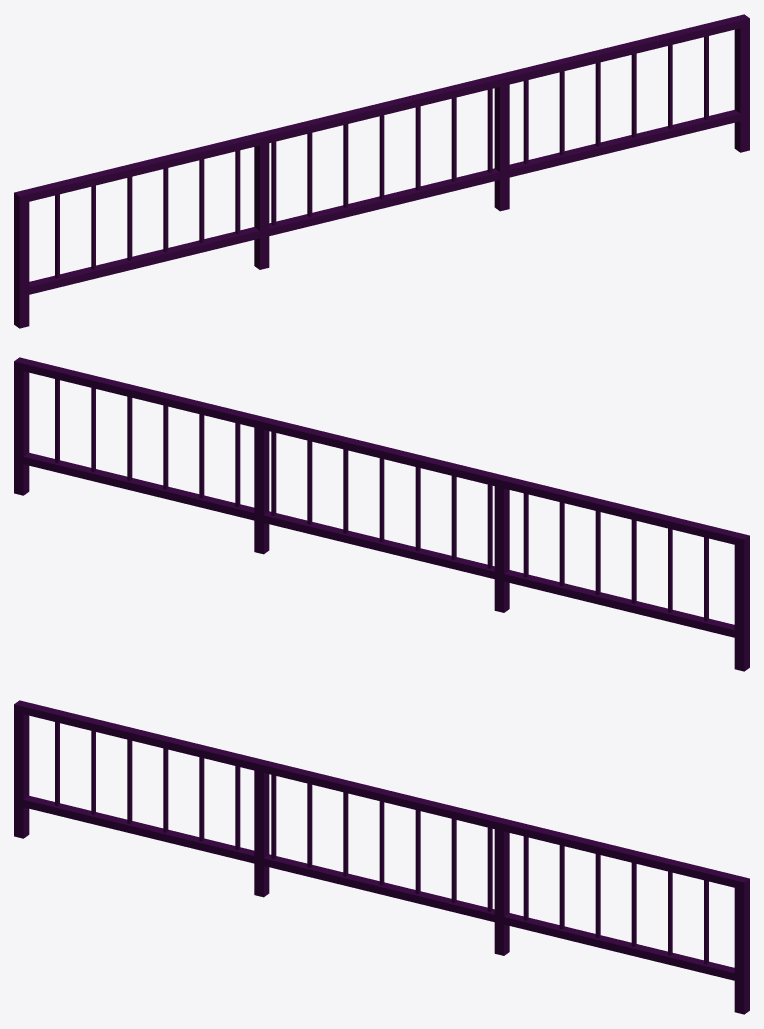
Rendered from guardrail.glb.
3 renders of one model, top to bottom at view 1: azimuth 30°, elevation 25°; view 2: azimuth 150°, elevation 25°; view 3: azimuth 330°, elevation 25°, orthographic.
Visible parts, largest first — view 1: guardrail; view 2: guardrail; view 3: guardrail.
Boxes of the visible parts, bbox=[...] form: guardrail: bbox=[14, 14, 749, 328]; guardrail: bbox=[14, 357, 749, 671]; guardrail: bbox=[14, 700, 749, 1014].
Size of the model in its own units: 6.08 by 1.05 by 0.0802.
